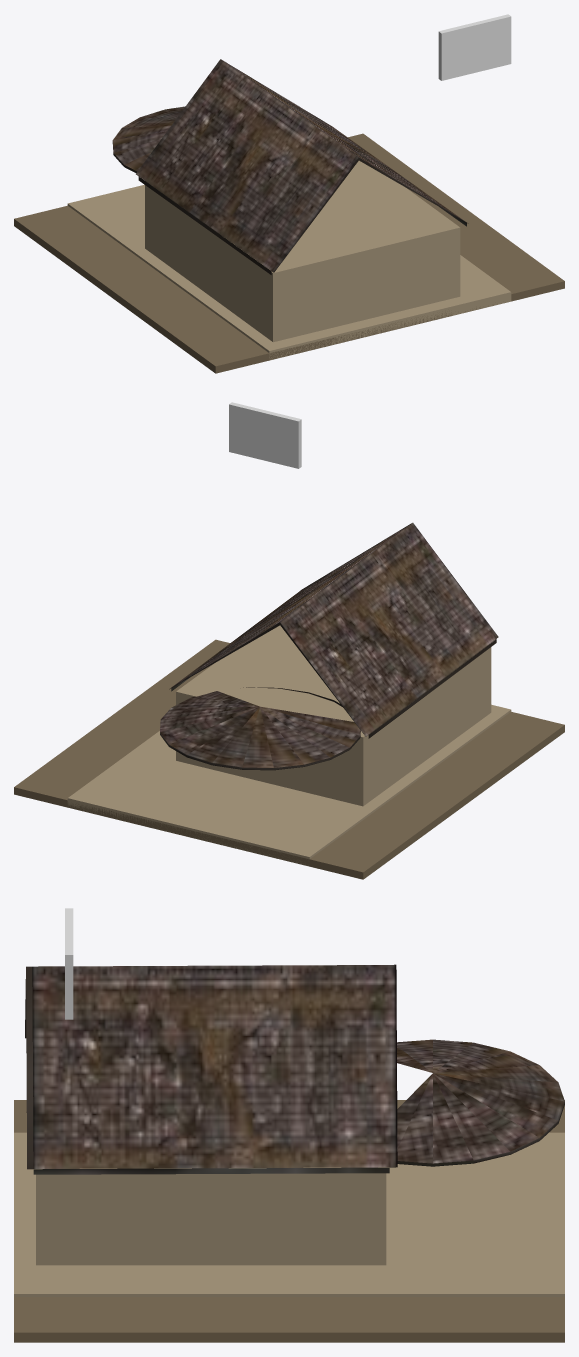
3 views of the same model, one above another, from view 1: azimuth 30°, elevation 25°; view 2: azimuth 150°, elevation 25°; view 3: azimuth 270°, elevation 25° (orthographic). The views are drawn at different scales.
Parts seen in each view (by area): view 1: dweller_building_housing; view 2: dweller_building_housing; view 3: dweller_building_housing.
Boxes of the visible parts, box(x1,y1,x2,y2) form: dweller_building_housing: box(14, 14, 564, 373); dweller_building_housing: box(14, 402, 564, 879); dweller_building_housing: box(14, 908, 564, 1342).
Size of the model in its own units: 2 by 1.46 by 2.
Materials: 4 (1 with a texture image).
